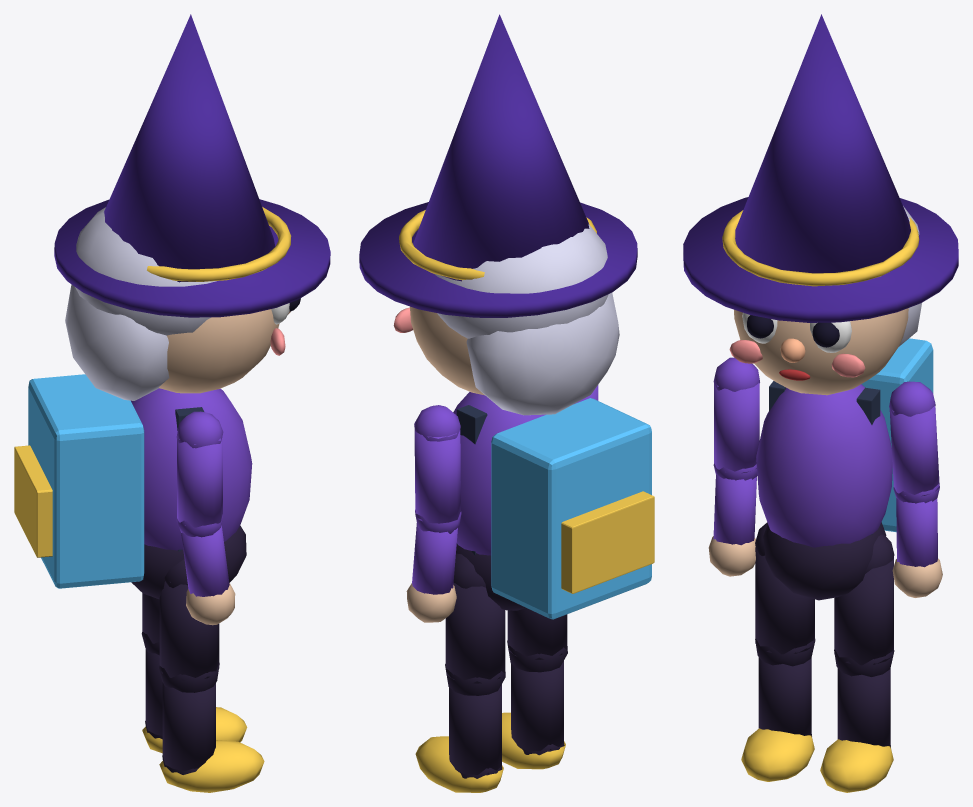
The model's file is hrdina_4_stoji.glb.
3 views of the same model, side by side, from view 1: azimuth 30°, elevation 25°; view 2: azimuth 150°, elevation 25°; view 3: azimuth 270°, elevation 25° (orthographic).
Parts seen in each view (by area): view 1: Cone, Cube, Cylinder, Sphere, Sphere.012, Sphere.002, Sphere.011, Cylinder.005, Cylinder.006, Cylinder.001, Cube.001, Sphere.026 (+9 smaller); view 2: Cube, Cone, Cylinder, Sphere.012, Sphere.011, Cube.001, Sphere, Cylinder.007, Cylinder.008, Cylinder.006, Cylinder.003, Sphere.002 (+12 smaller); view 3: Cone, Sphere, Cylinder, Sphere.002, Sphere.001, Cylinder.007, Cylinder.005, Cylinder.008, Cylinder.006, Cylinder.003, Cylinder.001, Torus (+19 smaller).
Boxes of the visible parts, left/top/right/bottom form: Cone: left=104, top=14, right=275, bottom=282; Cube: left=28, top=374, right=144, bottom=588; Cylinder: left=54, top=199, right=330, bottom=317; Sphere: left=131, top=388, right=252, bottom=550; Sphere.012: left=65, top=284, right=169, bottom=400; Sphere.002: left=159, top=309, right=279, bottom=393; Sphere.011: left=75, top=207, right=216, bottom=335; Cylinder.005: left=159, top=581, right=219, bottom=680; Cylinder.006: left=162, top=682, right=215, bottom=770; Cylinder.001: left=177, top=435, right=222, bottom=527; Cube.001: left=14, top=445, right=52, bottom=557; Sphere.026: left=159, top=740, right=264, bottom=792; Cube: left=491, top=398, right=651, bottom=619; Cone: left=413, top=14, right=589, bottom=281; Cylinder: left=359, top=202, right=637, bottom=317; Sphere.012: left=466, top=292, right=619, bottom=415; Sphere.011: left=434, top=223, right=608, bottom=338; Cube.001: left=561, top=491, right=654, bottom=593; Sphere: left=453, top=392, right=545, bottom=555; Cylinder.007: left=445, top=583, right=505, bottom=683; Cylinder.008: left=449, top=684, right=501, bottom=774; Cylinder.006: left=511, top=661, right=563, bottom=751; Cylinder.003: left=414, top=429, right=460, bottom=523; Sphere.002: left=410, top=306, right=484, bottom=395; Cone: left=735, top=14, right=910, bottom=273; Sphere: left=756, top=384, right=892, bottom=547; Cylinder: left=683, top=197, right=958, bottom=322; Sphere.002: left=734, top=308, right=908, bottom=395; Sphere.001: left=763, top=522, right=886, bottom=600; Cylinder.007: left=834, top=558, right=893, bottom=665; Cylinder.005: left=755, top=547, right=814, bottom=654; Cylinder.008: left=837, top=668, right=890, bottom=746; Cylinder.006: left=758, top=657, right=811, bottom=735; Cylinder.003: left=889, top=402, right=939, bottom=496; Cylinder.001: left=714, top=382, right=759, bottom=473; Torus: left=722, top=210, right=919, bottom=286.
Size of the model in its own units: 0.6329 by 1.67 by 0.55.
